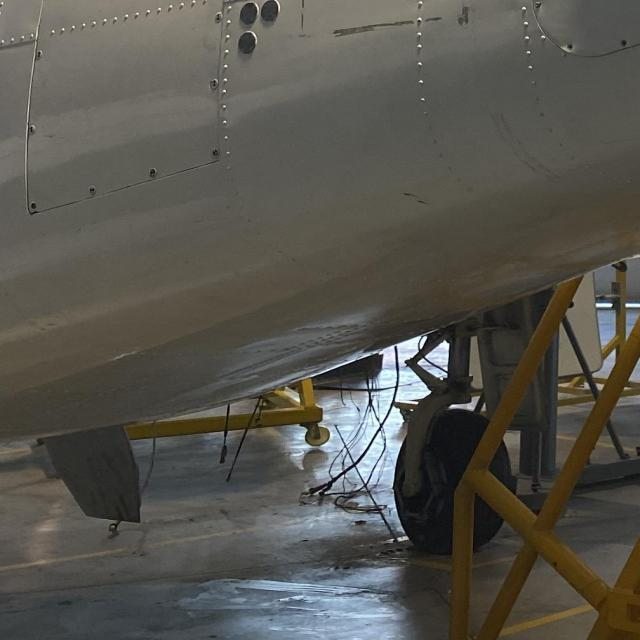Missing-head: (620, 40, 627, 48)
